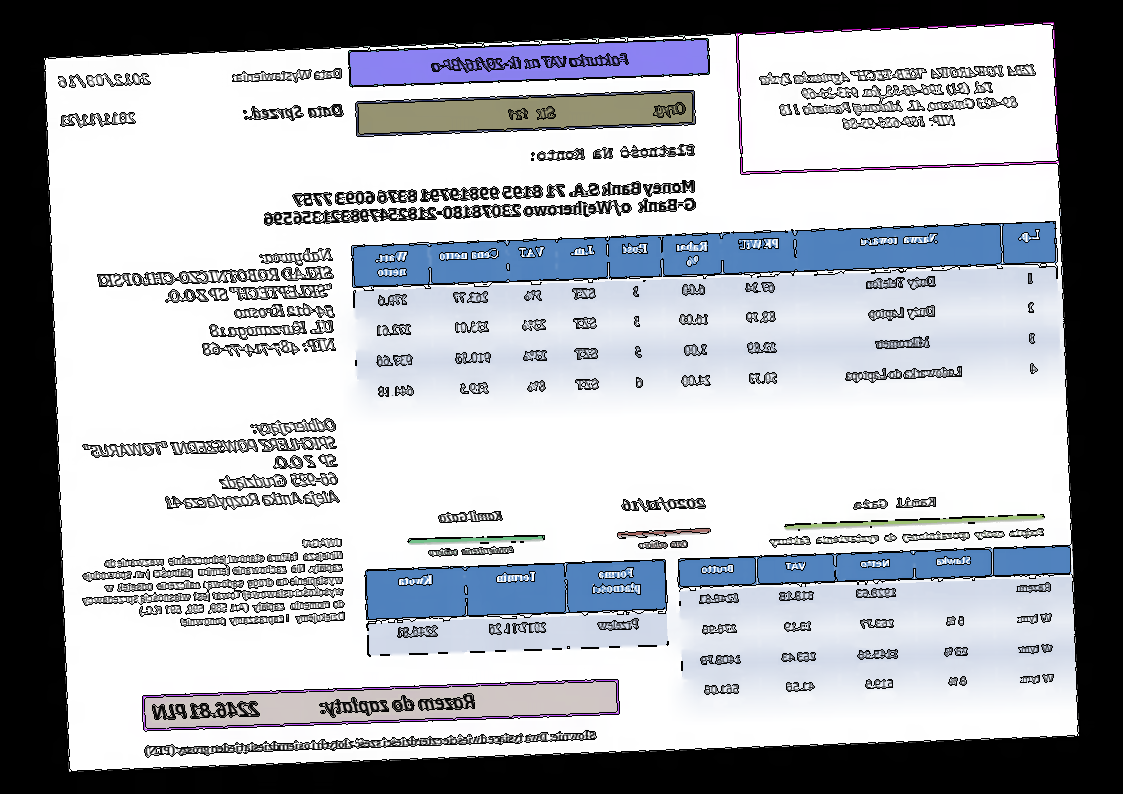Table: (351, 218, 1063, 411), (677, 544, 1077, 710), (364, 557, 670, 657)
TextBox: (94, 245, 339, 365), (76, 534, 348, 634), (77, 415, 342, 516), (260, 175, 699, 230), (758, 58, 1040, 136), (143, 726, 599, 759), (149, 689, 479, 725), (768, 524, 1047, 550), (428, 50, 633, 77), (505, 98, 688, 125), (529, 141, 699, 166), (236, 101, 347, 125), (229, 64, 345, 84), (55, 69, 153, 91), (620, 493, 709, 515), (849, 494, 939, 513), (57, 109, 139, 129), (428, 542, 516, 559), (436, 507, 507, 526), (635, 537, 692, 552)
